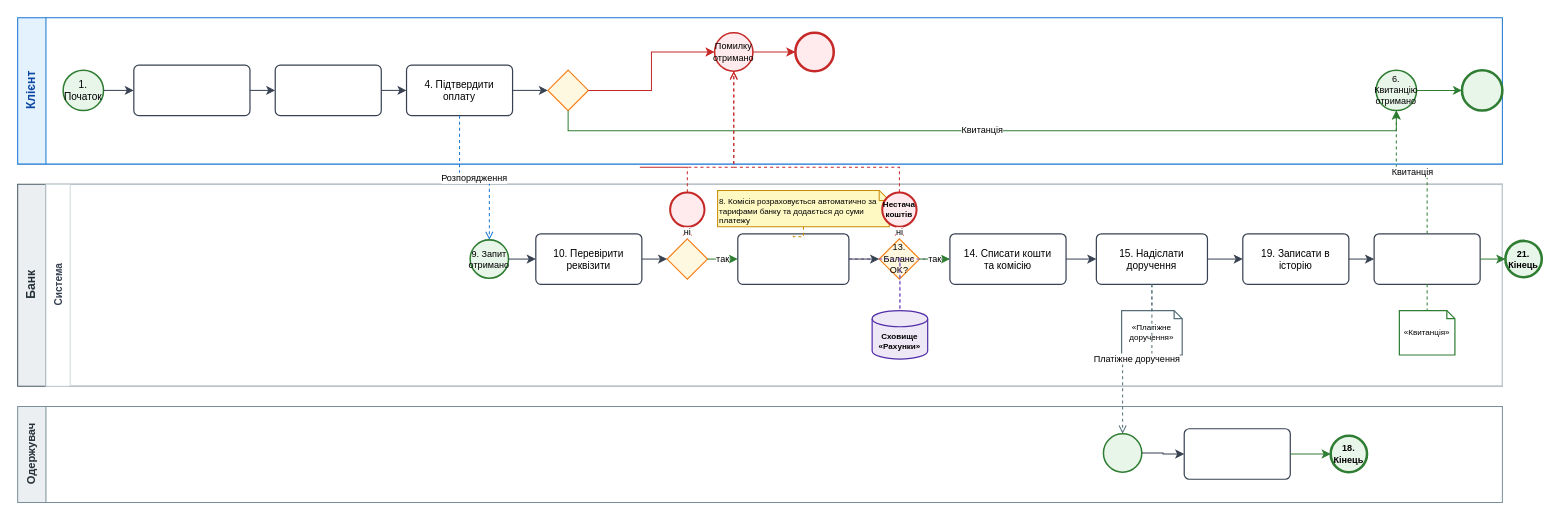
This 1560x520 diagram has some shape labels left out. Here are the shapes that lost their labels. From the top down, the centre of each, then its label:
At point (814, 51): "Оплату відхилено".
At point (191, 90): "2. Ввести реквізити та суму".
At point (327, 90): "3. Вказати призначення".
At point (567, 90): "5. Шлюз подій".
At point (1481, 89): "7. Оплату завершено".
At point (687, 209): "Помилка реквізитів".
At point (687, 258): "11. OK?".
At point (793, 258): "12. Розрахувати комісію".
At point (1426, 258): "20. Надіслати квитанцію".
At point (1122, 452): "16. Доручення отримано".
At point (1236, 453): "17. Зарахувати кошти".
